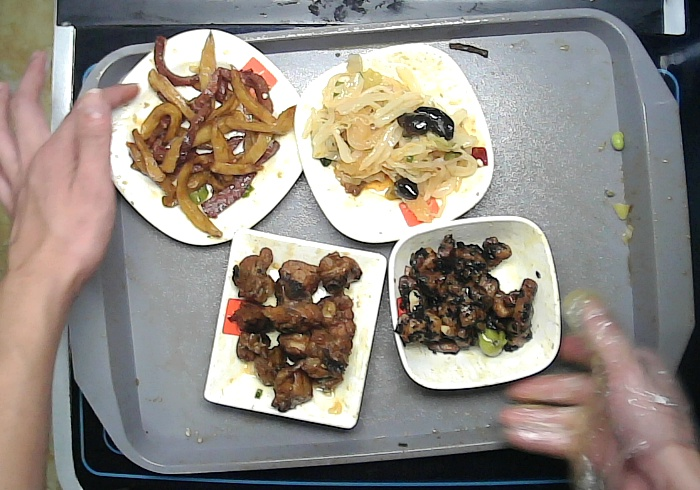SHKJ-Bai_Se_Cai_Die: (292, 40, 495, 245)
SHKJ-Bai_Se_Si_Fang_Cai_Die: (106, 26, 305, 246)
SHKJ-Bai_Se_Xiao_Fang_Die: (385, 213, 564, 390)
SHKJ-Si_Fang_Min: (201, 224, 391, 431)
